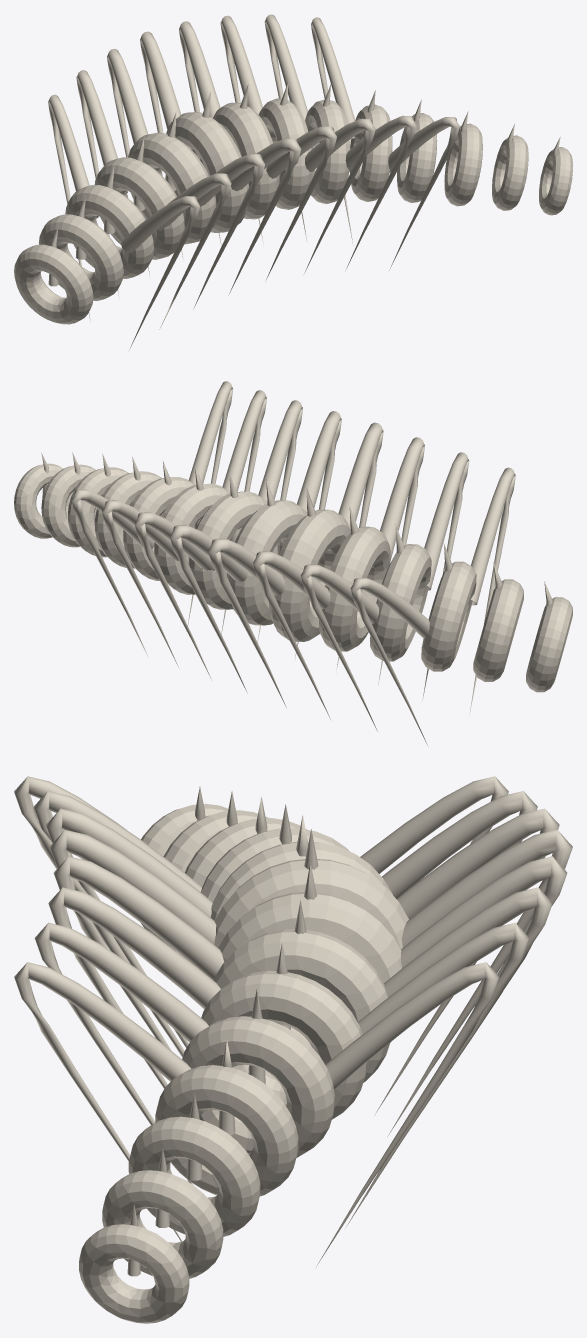
Rendered from setpiece_giant_bones.glb.
The picture shows the model from 3 angles, top to bottom: view 1: azimuth 30°, elevation 25°; view 2: azimuth 150°, elevation 25°; view 3: azimuth 270°, elevation 25°; orthographic projection. The views are drawn at different scales.
Parts seen in each view (by area): view 1: Landmark; view 2: Landmark; view 3: Landmark.
Part boxes in pixels (left/top/right/bottom): Landmark: left=14, top=14, right=572, bottom=349; Landmark: left=14, top=381, right=572, bottom=745; Landmark: left=14, top=776, right=572, bottom=1323.
Size of the model in its own units: 10.88 by 4.24 by 5.98.
